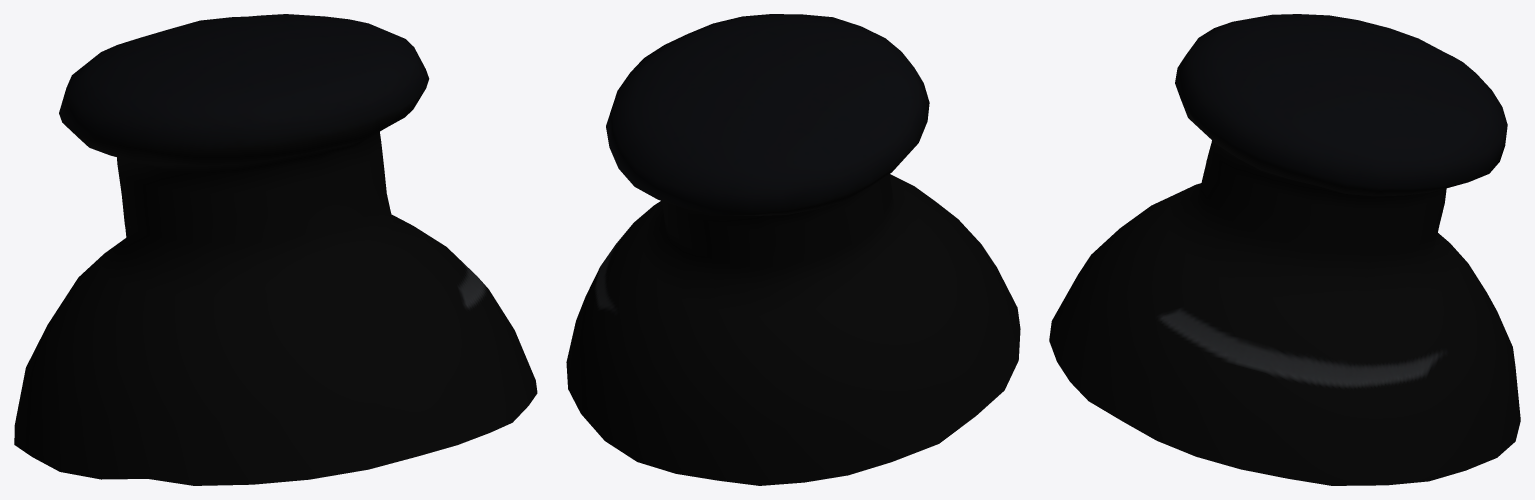
The model's file is right_joystick.obj.
3 views of the same model, side by side, from view 1: azimuth 30°, elevation 25°; view 2: azimuth 150°, elevation 25°; view 3: azimuth 270°, elevation 25° (orthographic). The views are drawn at different scales.
Parts seen in each view (by area): view 1: right_joystick; view 2: right_joystick; view 3: right_joystick.
Boxes of the visible parts, box(x1,y1,x2,y2) form: right_joystick: box(14, 14, 537, 485); right_joystick: box(566, 14, 1020, 485); right_joystick: box(1049, 14, 1520, 485).
Size of the model in its own units: 0.0184 by 0.0154 by 0.018.
Materials: 1 (1 with a texture image).
